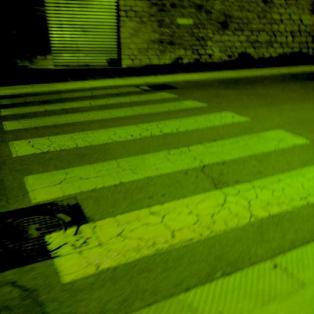Paso de Cebra: (6, 109, 314, 207)
